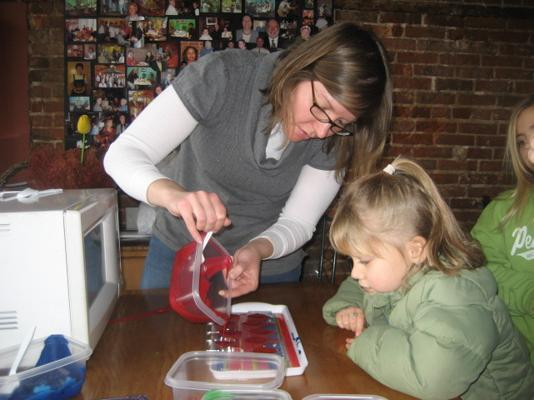person: (103, 20, 392, 291)
